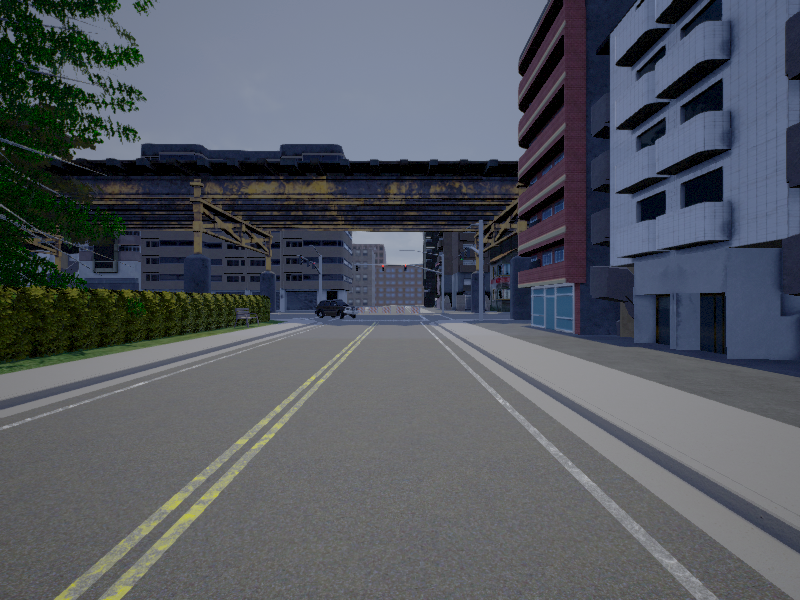Benign: (314, 297, 356, 319)
